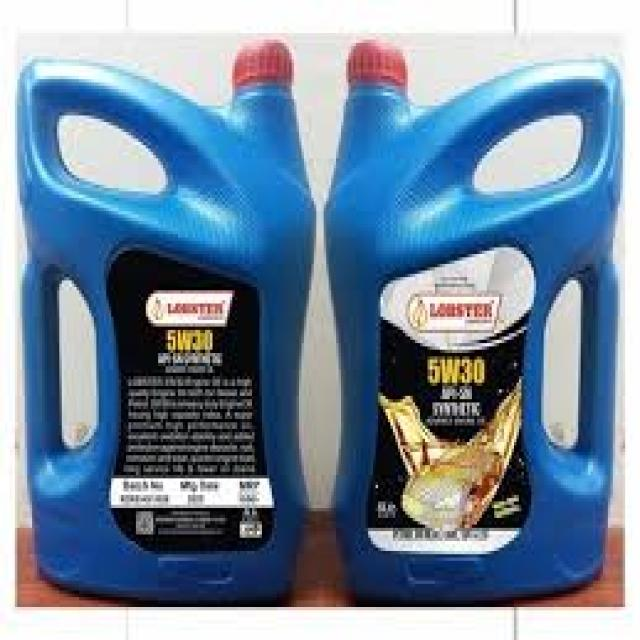motor_oil: (13, 34, 317, 608), (324, 34, 627, 609)
